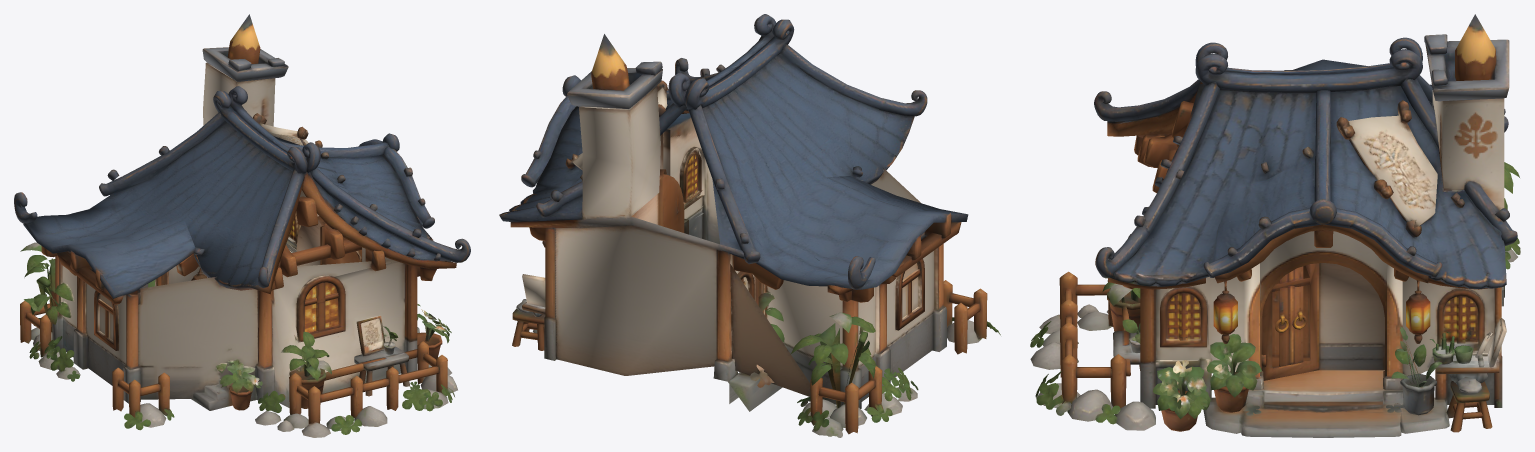
File: ch03-dog-studio.glb
3 views of the same model, side by side, from view 1: azimuth 30°, elevation 25°; view 2: azimuth 150°, elevation 25°; view 3: azimuth 270°, elevation 25° (orthographic). The views are drawn at different scales.
Parts seen in each view (by area): view 1: tripo_node_50f25e60-6501-488d-a93a-9d339a210afb; view 2: tripo_node_50f25e60-6501-488d-a93a-9d339a210afb; view 3: tripo_node_50f25e60-6501-488d-a93a-9d339a210afb.
Boxes of the visible parts, left/top/right/bottom form: tripo_node_50f25e60-6501-488d-a93a-9d339a210afb: left=14, top=14, right=470, bottom=437; tripo_node_50f25e60-6501-488d-a93a-9d339a210afb: left=499, top=14, right=1000, bottom=437; tripo_node_50f25e60-6501-488d-a93a-9d339a210afb: left=1030, top=14, right=1520, bottom=437.
Bounding box in the file's own units: 0.9946 × 0.8384 × 0.9995.
1 material, 1 textured.
